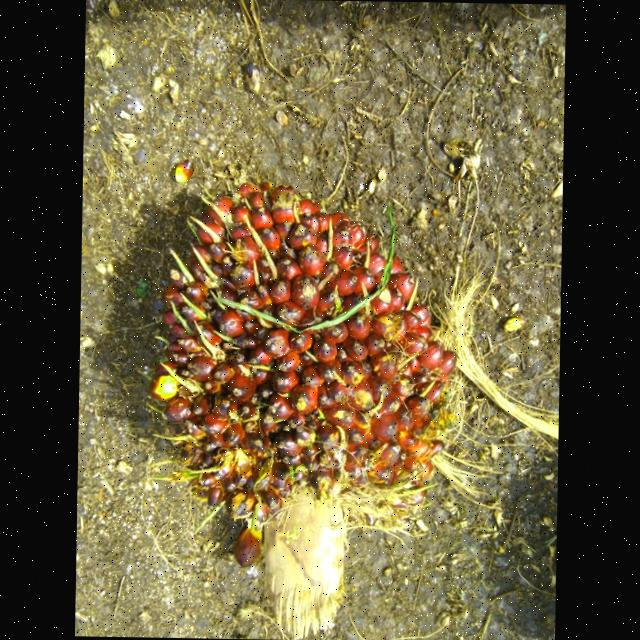Ripe: (135, 179, 473, 551)
